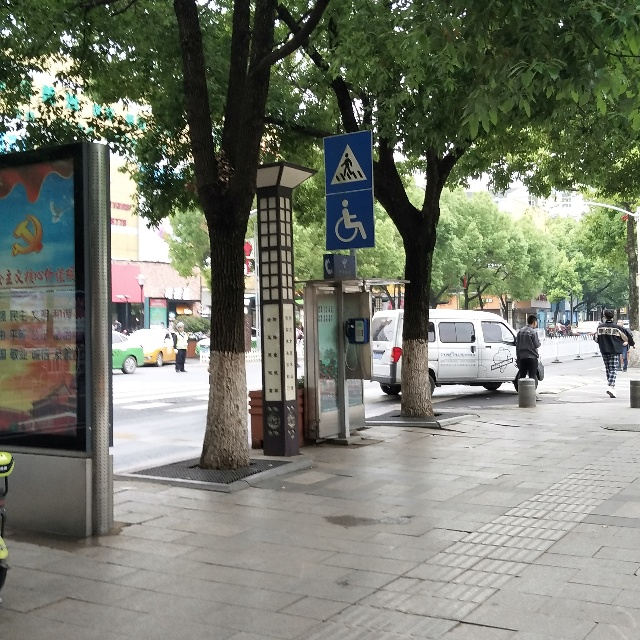crosswalk: (324, 132, 374, 193)
